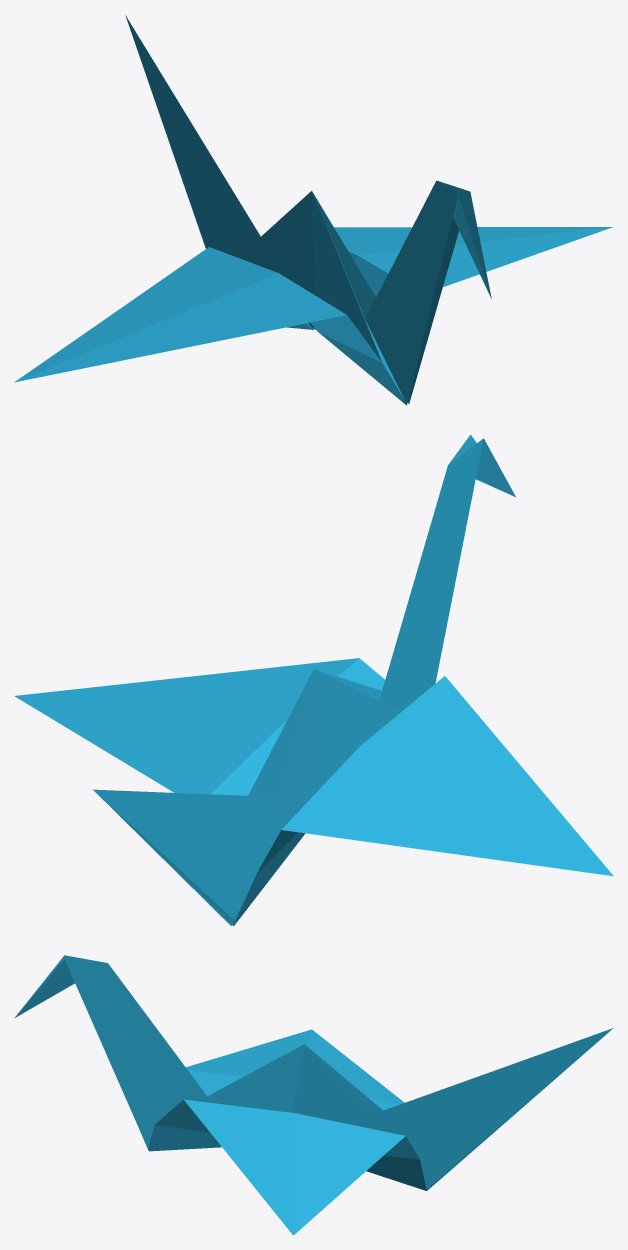
The model's file is crane_hat.fbx.
3 views of the same model, one above another, from view 1: azimuth 30°, elevation 25°; view 2: azimuth 150°, elevation 25°; view 3: azimuth 270°, elevation 25° (orthographic). The views are drawn at different scales.
Parts seen in each view (by area): view 1: crane; view 2: crane; view 3: crane.
Boxes of the visible parts, x1=… form: crane: x1=14, y1=15, x2=612, y2=405; crane: x1=14, y1=434, x2=613, y2=926; crane: x1=14, y1=955, x2=613, y2=1235.
Size of the model in its own units: 172 by 84.16 by 196.
